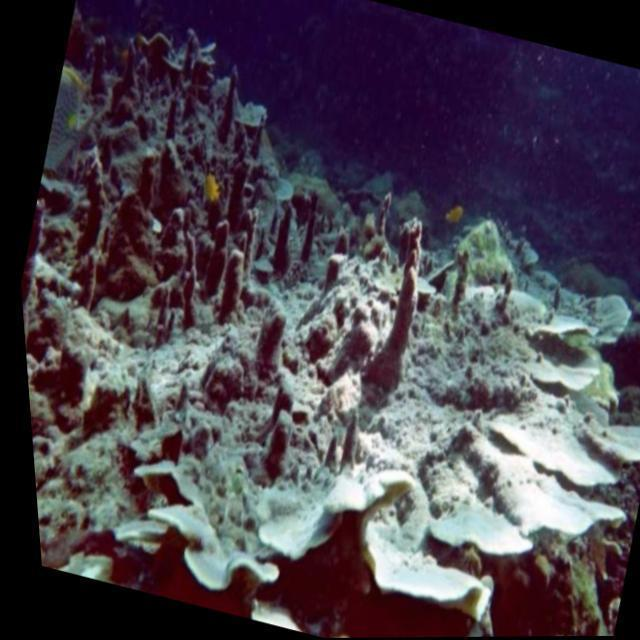Dead Coral: (7, 117, 640, 640), (165, 172, 446, 522), (0, 0, 280, 330)
